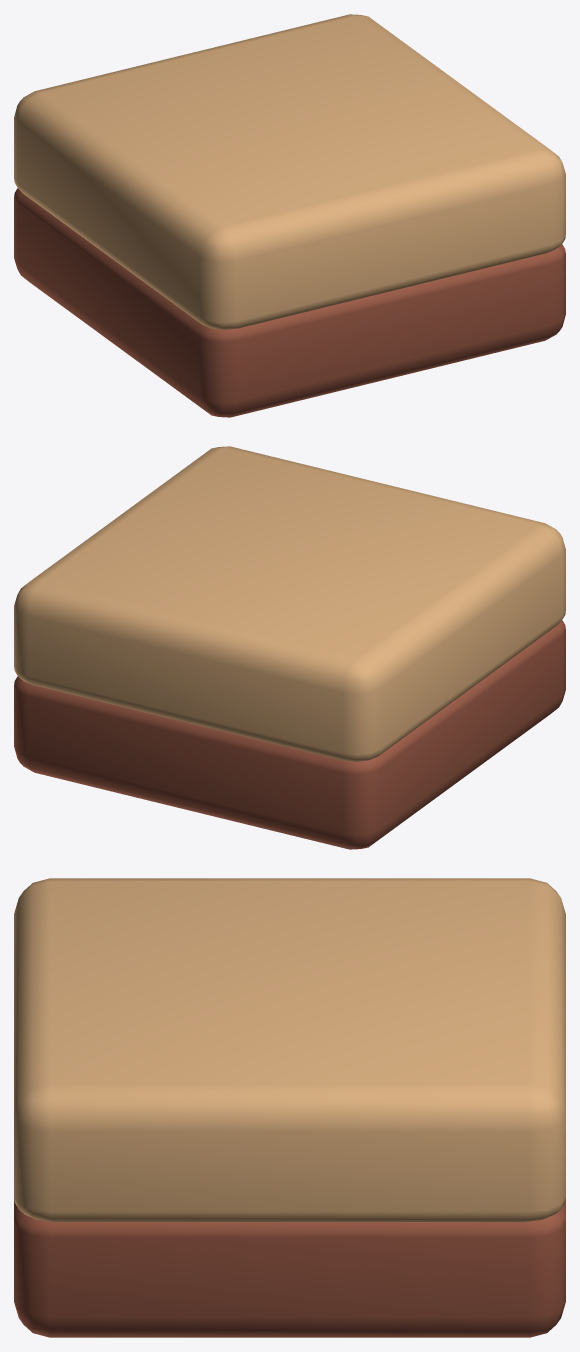
Rendered from tileLow_desert.glb.
3 renders of one model, top to bottom at view 1: azimuth 30°, elevation 25°; view 2: azimuth 150°, elevation 25°; view 3: azimuth 270°, elevation 25°, orthographic. The views are drawn at different scales.
Visible parts, largest first — view 1: tileLow_desert; view 2: tileLow_desert; view 3: tileLow_desert.
Part boxes in pixels (<box>): tileLow_desert: <box>14,14,565,417</box>; tileLow_desert: <box>14,446,565,849</box>; tileLow_desert: <box>14,878,565,1337</box>.
Size of the model in its own units: 2 by 1 by 2.
